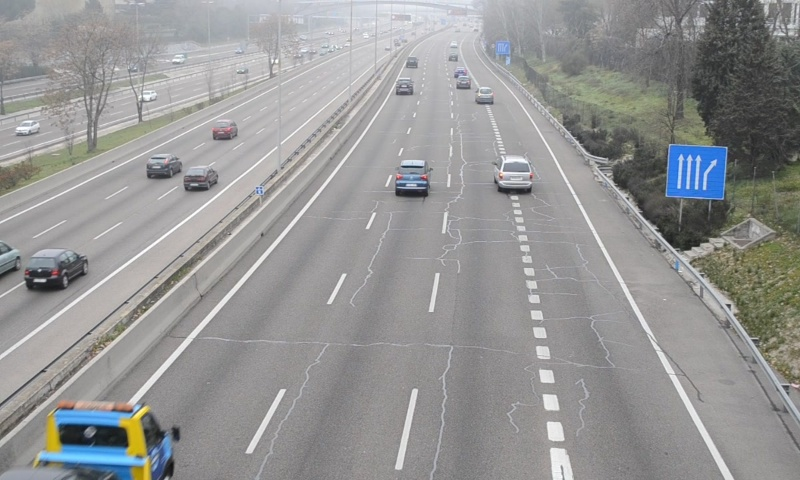car: (494, 156, 532, 190), (394, 160, 430, 195), (394, 77, 414, 96), (475, 86, 494, 104)
